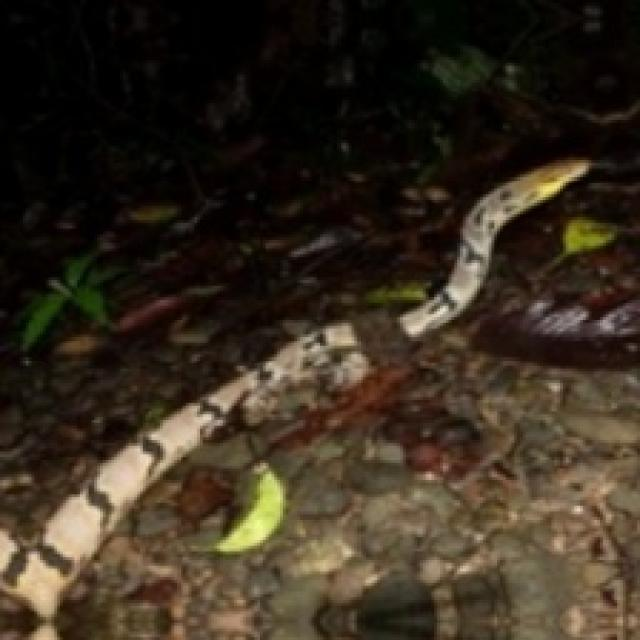dog-toothed cat snake: (0, 323, 369, 637), (397, 160, 589, 337)
